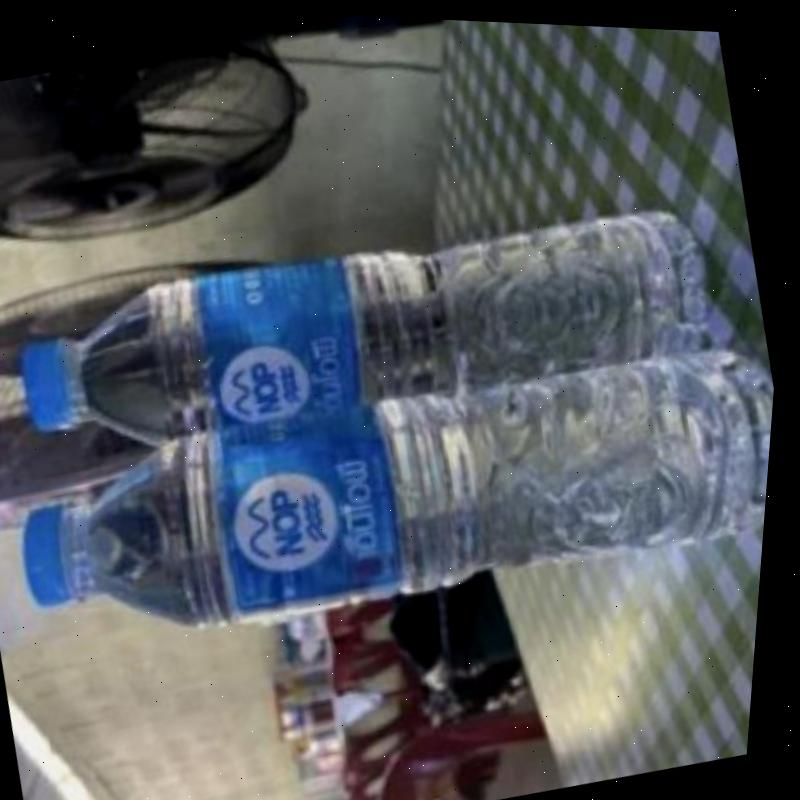botella: (5, 365, 512, 680), (5, 214, 470, 485)
